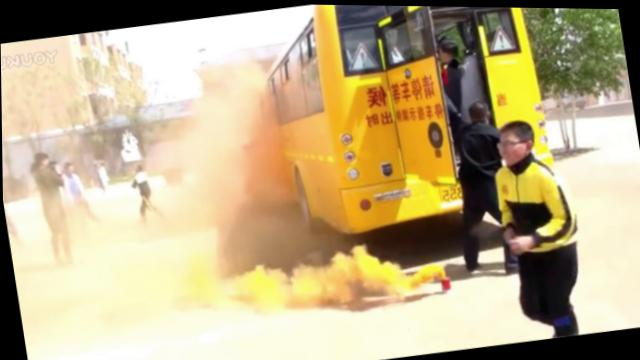smoke: (265, 252, 337, 313), (336, 240, 407, 299)
